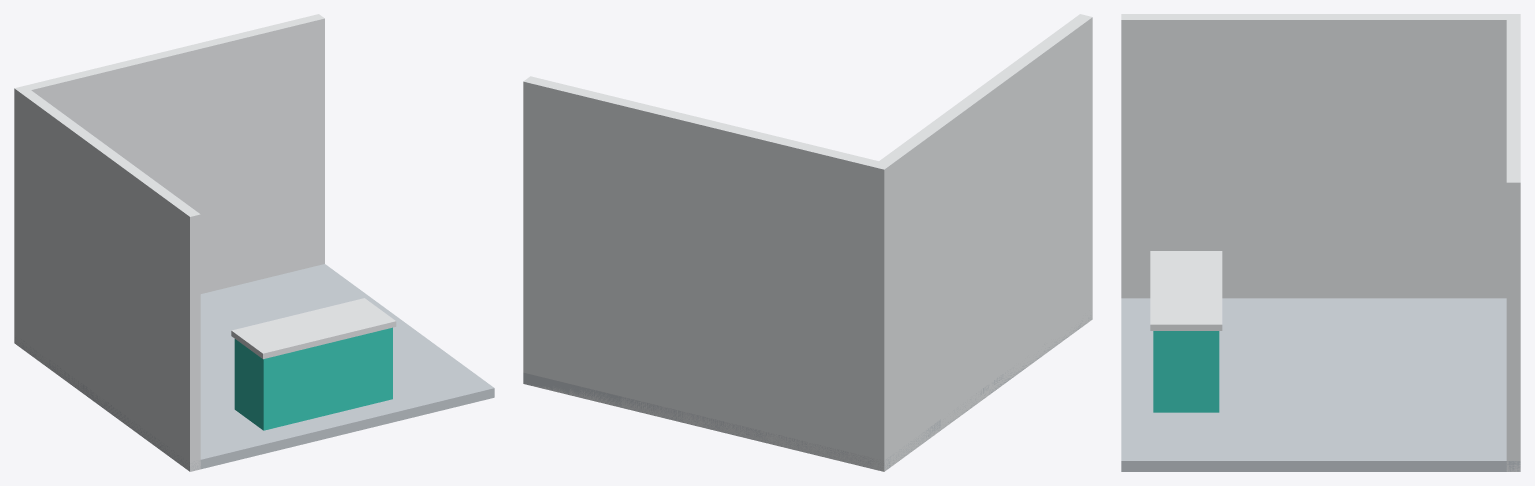
3 renders of one model, left to right at view 1: azimuth 30°, elevation 25°; view 2: azimuth 150°, elevation 25°; view 3: azimuth 270°, elevation 25°, orthographic. The views are drawn at different scales.
Visible parts, largest first — view 1: Exhibition Booth Concept; view 2: Exhibition Booth Concept; view 3: Exhibition Booth Concept.
Part boxes in pixels (x1,y1,x2,y2): Exhibition Booth Concept: (14,14,494,471); Exhibition Booth Concept: (523,14,1092,471); Exhibition Booth Concept: (1121,14,1520,471).
Size of the model in its own units: 4 by 3.2 by 4.
